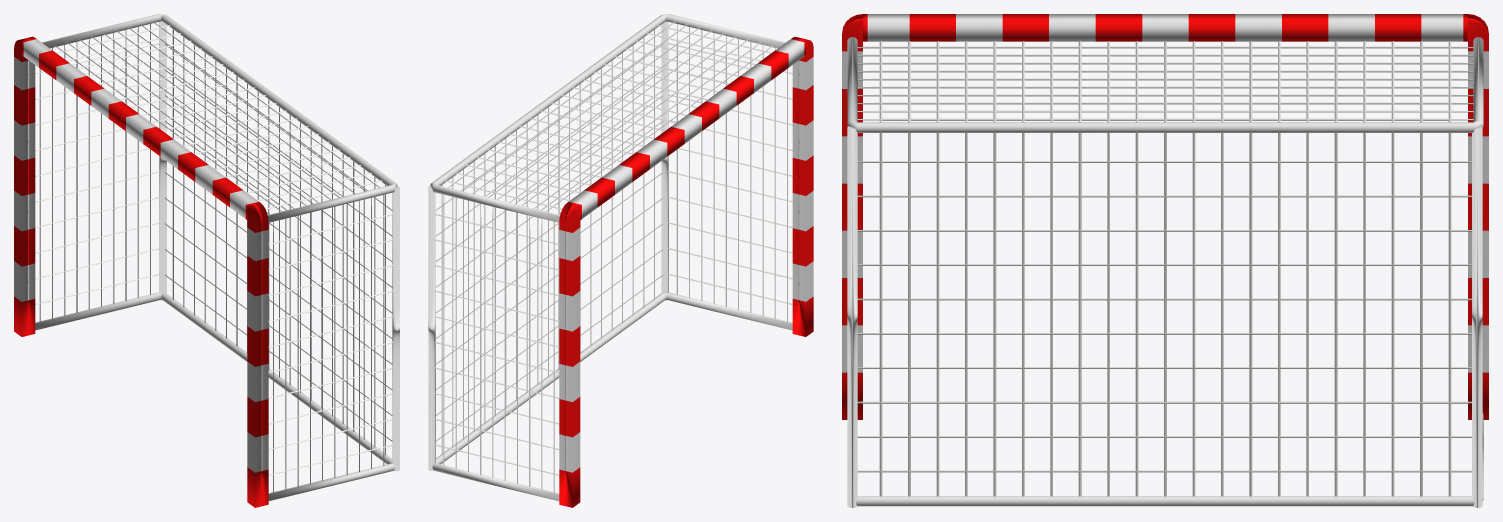
The model's file is FutSalGoal.fbx.
3 renders of one model, left to right at view 1: azimuth 30°, elevation 25°; view 2: azimuth 150°, elevation 25°; view 3: azimuth 270°, elevation 25°, orthographic. The views are drawn at different scales.
Visible parts, largest first — view 1: Net, Base, Red, White; view 2: Net, Base, Red, White; view 3: Net, Base, Red, White.
Boxes of the visible parts, x1,y1,x2,y2 form: Net: (35,21,396,492); Base: (35,14,399,500); Red: (14,36,268,507); White: (14,39,268,472); Net: (431,21,792,492); Base: (428,14,792,501); Red: (559,36,813,507); White: (559,39,813,472); Net: (851,41,1479,496); Base: (847,37,1483,507); Red: (842,14,1488,419); White: (842,14,1488,372).
Size of the model in its own units: 220 by 420 by 620.
